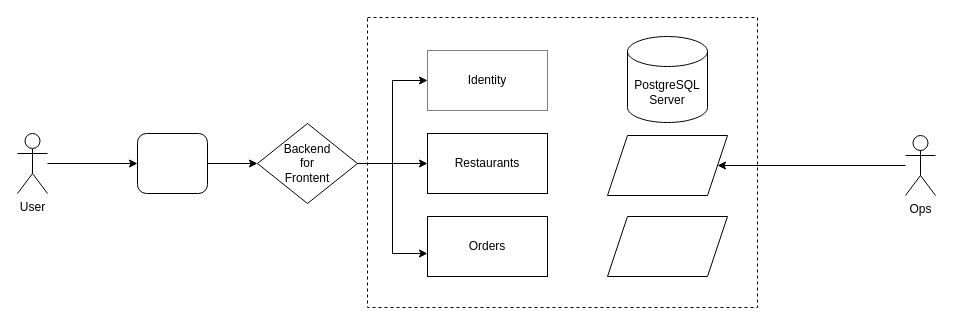
Image size: 953x325. Some labels were removed from this diagram. Each missing label, with the box of its shape:
Jaeger: (606, 134, 728, 196)
RabbitMQ: (606, 216, 728, 276)
Web SPA application: (136, 132, 208, 194)
